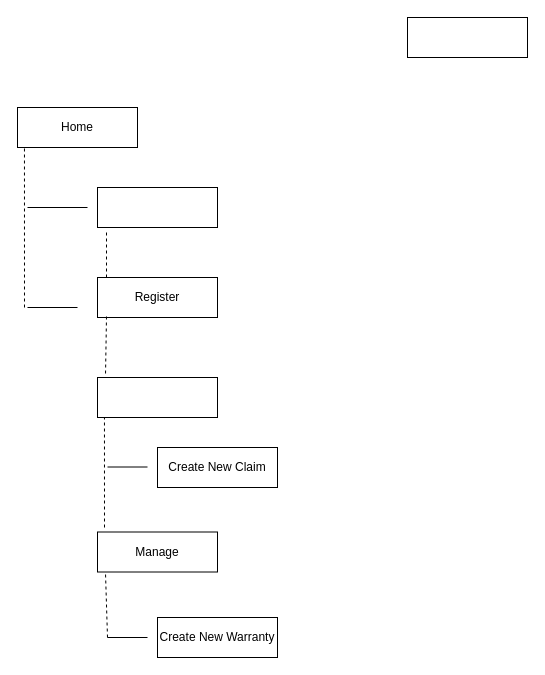
The diagram is 545 pixels wide and 675 high, and some of its shapes have lost their labels. Here are the shapes that lost their labels. From the top down, the box of each, then its label:
(406, 16, 528, 58): SITEMAP
(96, 186, 218, 228): Login
(96, 376, 218, 418): Claims
